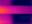Hotspot: (0, 8, 3, 13)
